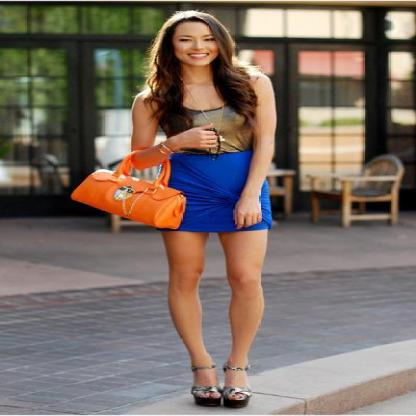bag: (71, 154, 185, 228)
shirt: (162, 89, 258, 157)
shoe: (192, 391, 249, 408)
skirt: (168, 148, 272, 232)
